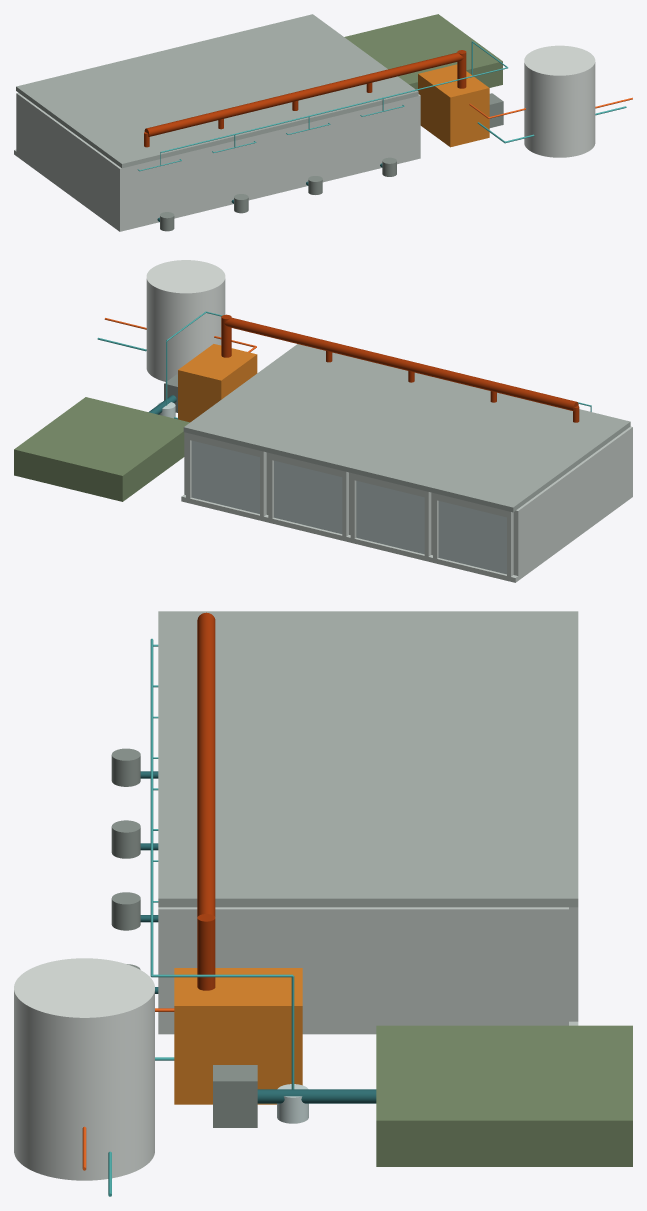
The model's file is farm-unit.glb.
3 views of the same model, one above another, from view 1: azimuth 30°, elevation 25°; view 2: azimuth 150°, elevation 25°; view 3: azimuth 270°, elevation 25° (orthographic). The views are drawn at different scales.
Parts seen in each view (by area): view 1: wall-back, T-101-roof, TK-201-buffer, T-102-roof, T-103-roof, T-104-roof, wall-1, F-301-biofilter, HX-201-casing, manifold, slab, irrigation-header (+2 smaller); view 2: F-301-biofilter, T-101-roof, T-103-roof, T-102-roof, T-104-roof, wall-1, TK-201-buffer, T-101-door, T-102-door, T-103-door, T-104-door, HX-201-casing (+9 smaller); view 3: wall-5, F-301-biofilter, T-104-roof, TK-201-buffer, T-101-roof, T-102-roof, T-103-roof, HX-201-casing, manifold, K-201-fan, irrigation-header, K-201-to-biofilter (+8 smaller).
Part boxes in pixels (bbox=[...]): wall-back: bbox=[117, 94, 420, 227]; T-101-roof: bbox=[16, 68, 195, 168]; TK-201-buffer: bbox=[524, 45, 595, 157]; T-102-roof: bbox=[90, 50, 270, 150]; T-103-roof: bbox=[165, 32, 344, 131]; T-104-roof: bbox=[239, 14, 418, 113]; wall-1: bbox=[16, 92, 118, 225]; F-301-biofilter: bbox=[344, 14, 502, 90]; HX-201-casing: bbox=[418, 64, 489, 147]; manifold: bbox=[144, 52, 463, 136]; slab: bbox=[14, 149, 420, 231]; irrigation-header: bbox=[160, 41, 508, 152]; F-301-biofilter: bbox=[14, 397, 189, 501]; T-101-roof: bbox=[431, 404, 630, 512]; T-103-roof: bbox=[266, 364, 461, 471]; T-102-roof: bbox=[348, 384, 544, 492]; T-104-roof: bbox=[183, 344, 379, 451]; wall-1: bbox=[513, 428, 630, 575]; TK-201-buffer: bbox=[146, 260, 225, 381]; T-101-door: bbox=[438, 501, 506, 574]; T-102-door: bbox=[356, 481, 424, 554]; T-103-door: bbox=[274, 460, 342, 533]; T-104-door: bbox=[191, 440, 259, 513]; HX-201-casing: bbox=[178, 344, 257, 422]; wall-5: bbox=[168, 907, 568, 1025]; F-301-biofilter: bbox=[376, 1025, 632, 1166]; T-104-roof: bbox=[158, 826, 578, 907]; TK-201-buffer: bbox=[14, 958, 154, 1180]; T-101-roof: bbox=[158, 611, 578, 682]; T-102-roof: bbox=[158, 683, 578, 754]; T-103-roof: bbox=[158, 755, 578, 826]; HX-201-casing: bbox=[174, 968, 302, 1104]; manifold: bbox=[197, 612, 215, 916]; K-201-fan: bbox=[213, 1065, 257, 1127]; irrigation-header: bbox=[150, 638, 292, 977]; K-201-to-biofilter: bbox=[257, 1089, 376, 1103].
Size of the model in its own units: 35300 by 5780 by 19299.
